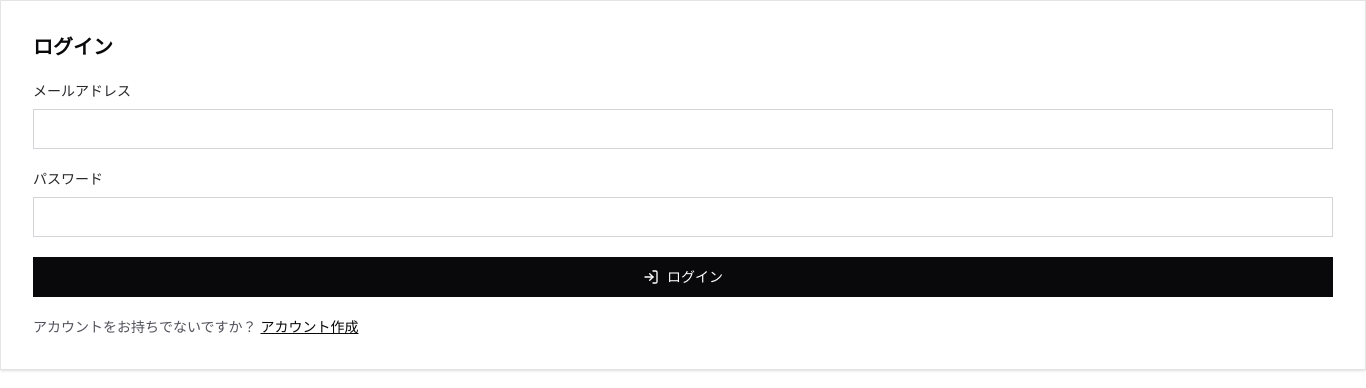
Test case: LoginForm › 送信中にボタンを無効化する
Type "user@example.com" into the field labelled "メールアドレス" at {"x": 683, "y": 129}, box [33,109,1333,149]
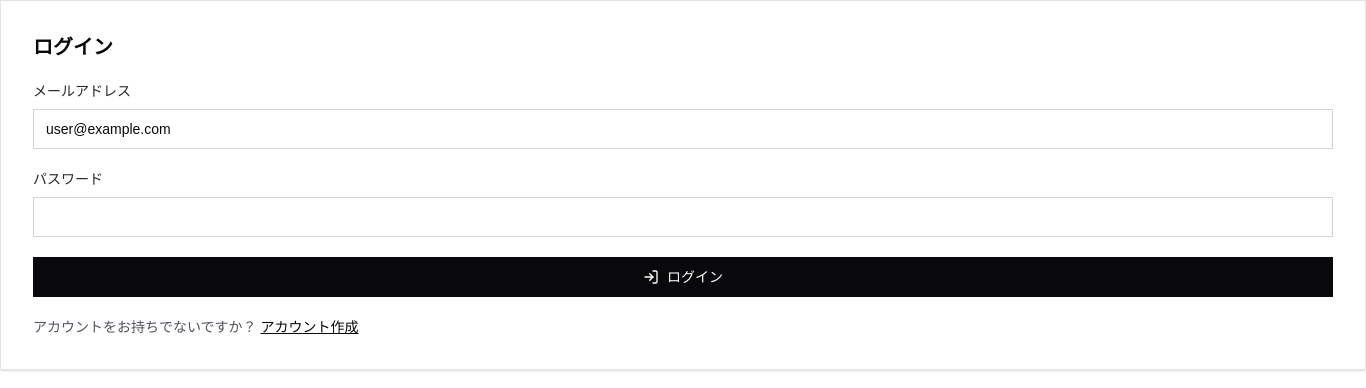
Type "password123" into the password field labelled "パスワード" at {"x": 683, "y": 217}, box [33,197,1333,237]
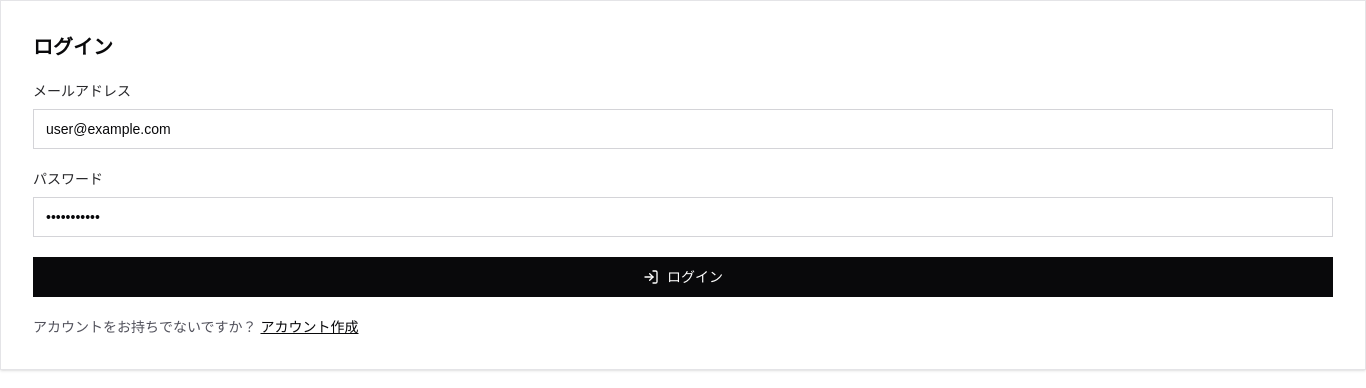
Click the button "ログイン" at {"x": 683, "y": 277}, box [33,257,1333,297]
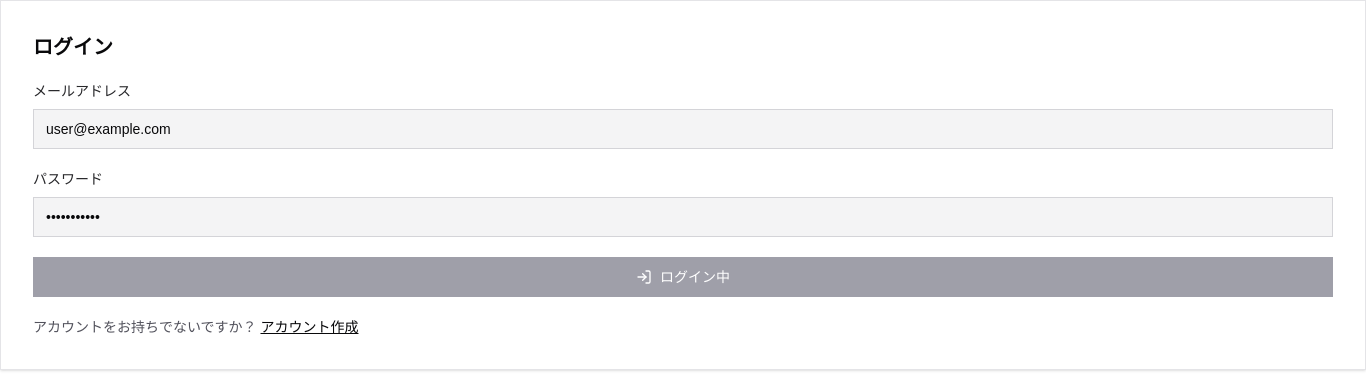
Check: the button "ログイン中" is disabled, box [33,257,1333,297]
